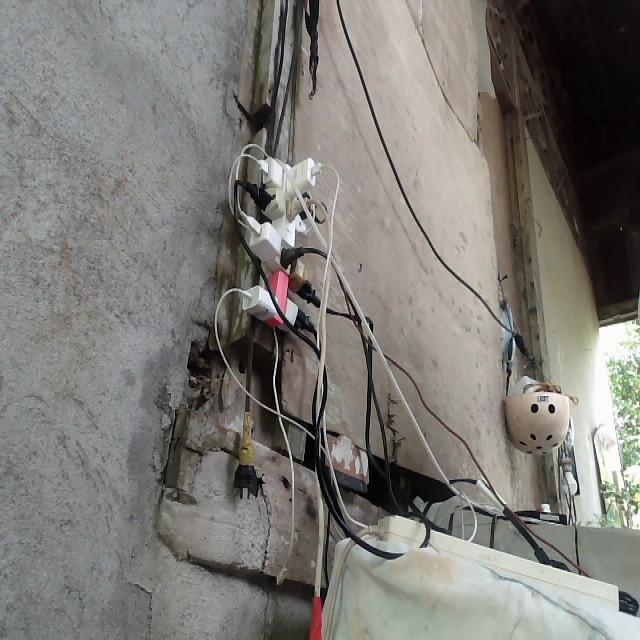-: (229, 152, 334, 335)
